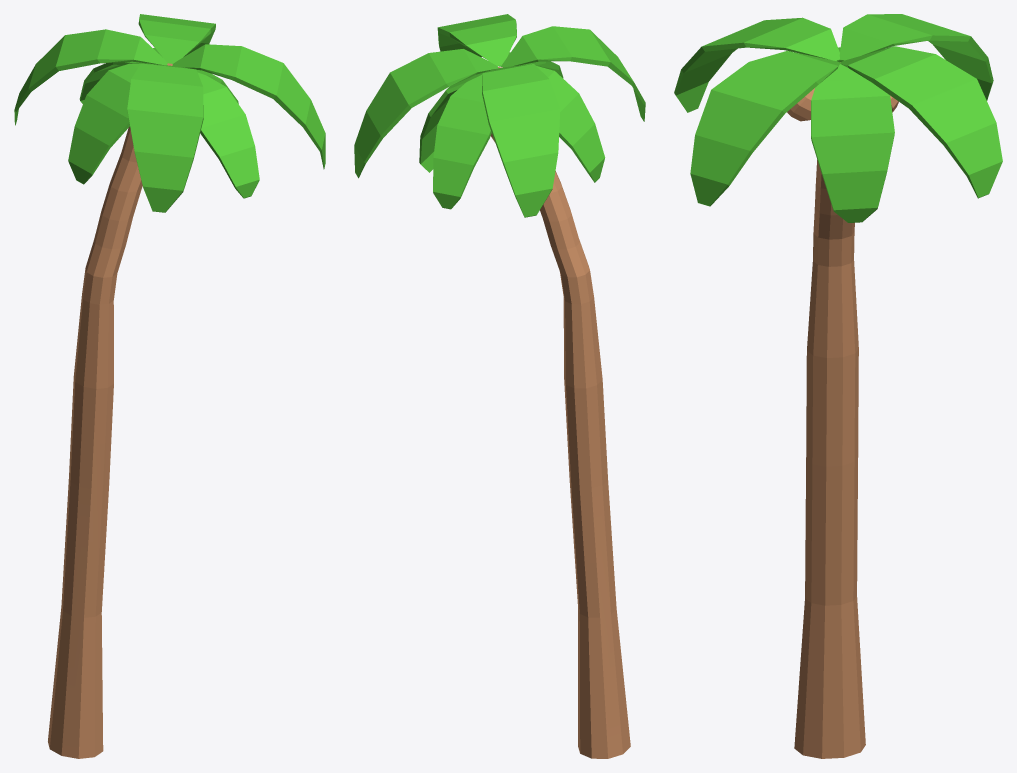
File: palm2.fbx
The picture shows the model from 3 angles, left to right: view 1: azimuth 30°, elevation 25°; view 2: azimuth 150°, elevation 25°; view 3: azimuth 270°, elevation 25°; orthographic projection. The views are drawn at different scales.
Visible parts, largest first — view 1: PALM4; view 2: PALM4; view 3: PALM4.
Part boxes in pixels (x1,y1,x2,y2): PALM4: (14, 14, 325, 758); PALM4: (354, 14, 645, 758); PALM4: (674, 14, 1002, 758).
Bounding box in the file's own units: 221 × 621 × 245.
